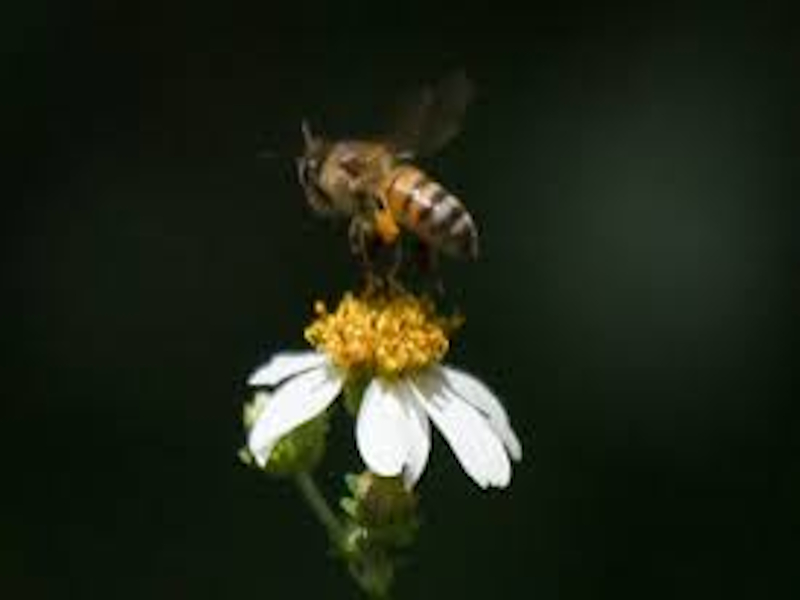abeja: (256, 60, 510, 314)
